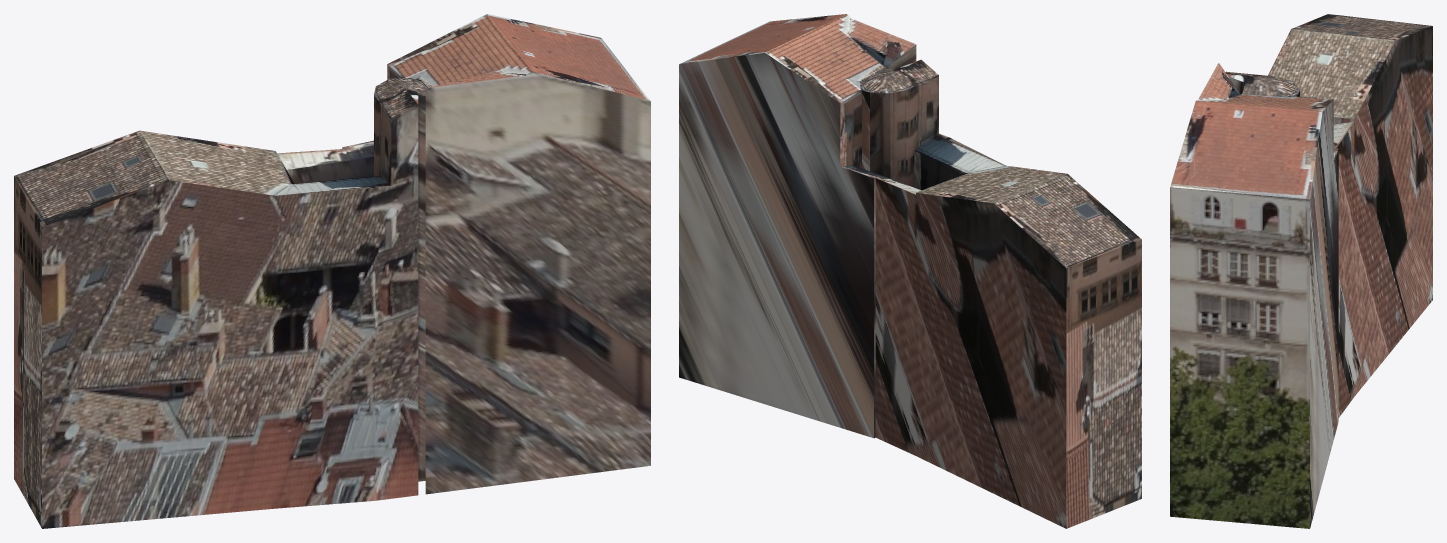
The picture shows the model from 3 angles, left to right: view 1: azimuth 30°, elevation 25°; view 2: azimuth 150°, elevation 25°; view 3: azimuth 270°, elevation 25°; orthographic projection. The views are drawn at different scales.
Parts seen in each view (by area): view 1: Z_UP; view 2: Z_UP; view 3: Z_UP.
Boxes of the visible parts, <box> form: Z_UP: <box>14,14,650,528</box>; Z_UP: <box>679,14,1141,528</box>; Z_UP: <box>1170,14,1432,528</box>.
Size of the model in its own units: 37.07 by 26.41 by 17.01.
2 materials, 1 textured.
